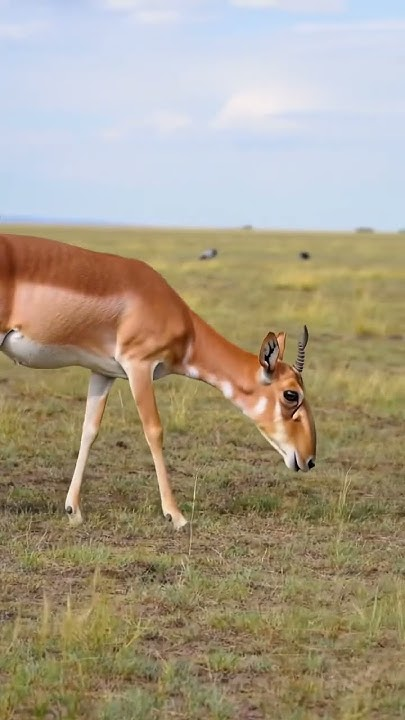saiga: (9, 217, 328, 543)
